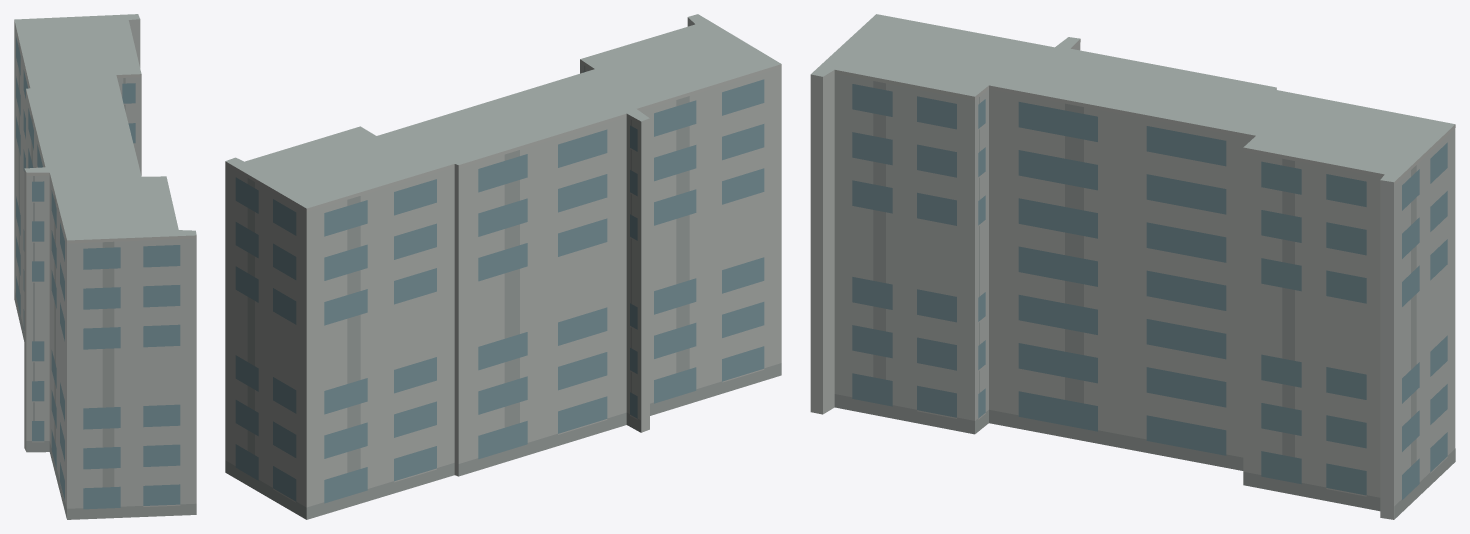
Rendered from survey-upis-32521898.glb.
3 views of the same model, side by side, from view 1: azimuth 30°, elevation 25°; view 2: azimuth 150°, elevation 25°; view 3: azimuth 270°, elevation 25° (orthographic). The views are drawn at different scales.
Visible parts, largest first — view 1: survey-upis-32521898.tmp; view 2: survey-upis-32521898.tmp; view 3: survey-upis-32521898.tmp.
Part boxes in pixels (<box>): survey-upis-32521898.tmp: <box>14,14,196,519</box>; survey-upis-32521898.tmp: <box>225,14,781,519</box>; survey-upis-32521898.tmp: <box>810,14,1455,519</box>.
Bounding box in the file's own units: 23.08 × 21.6 × 37.39.
